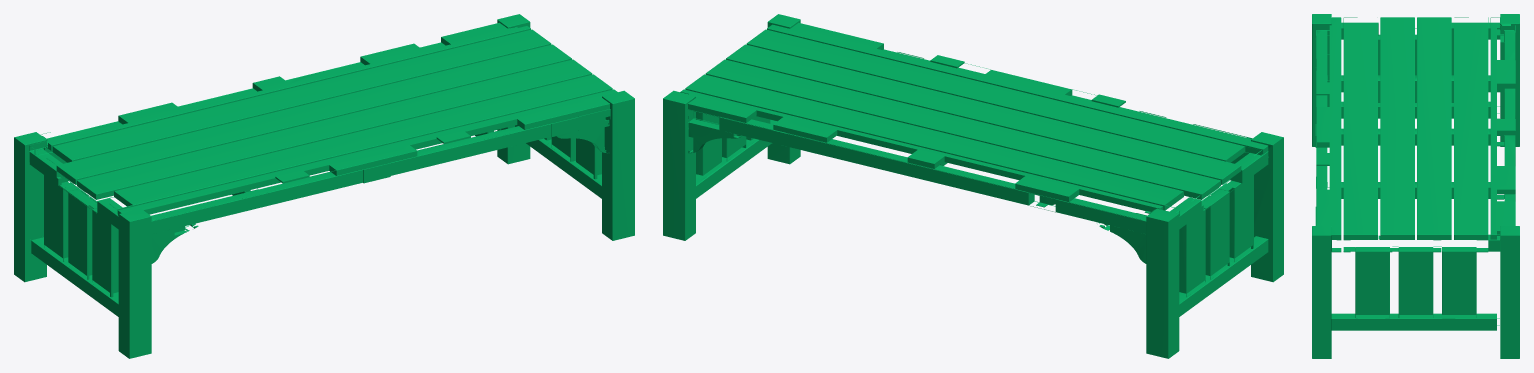
File: shiny_maimu.glb
The picture shows the model from 3 angles, left to right: view 1: azimuth 30°, elevation 25°; view 2: azimuth 150°, elevation 25°; view 3: azimuth 270°, elevation 25°; orthographic projection. The views are drawn at different scales.
Visible parts, largest first — view 1: Object_2; view 2: Object_2; view 3: Object_2.
Boxes of the visible parts, x1,y1,x2,y2 form: Object_2: (14, 14, 634, 358); Object_2: (663, 14, 1283, 358); Object_2: (1312, 14, 1519, 358).
Bounding box in the file's own units: 154 × 40 × 61.
